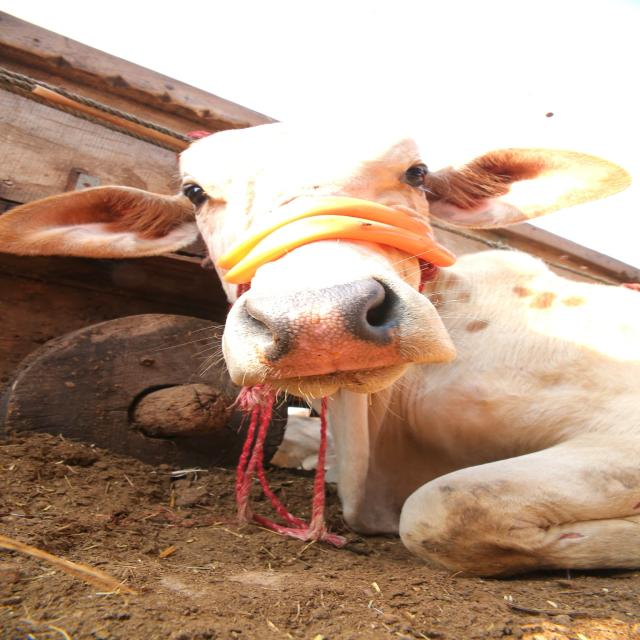muzzles: (234, 277, 416, 379)
